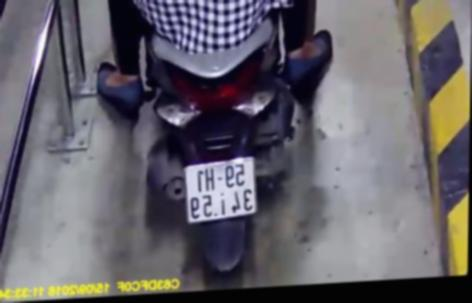License_Plate: (180, 144, 265, 227)
